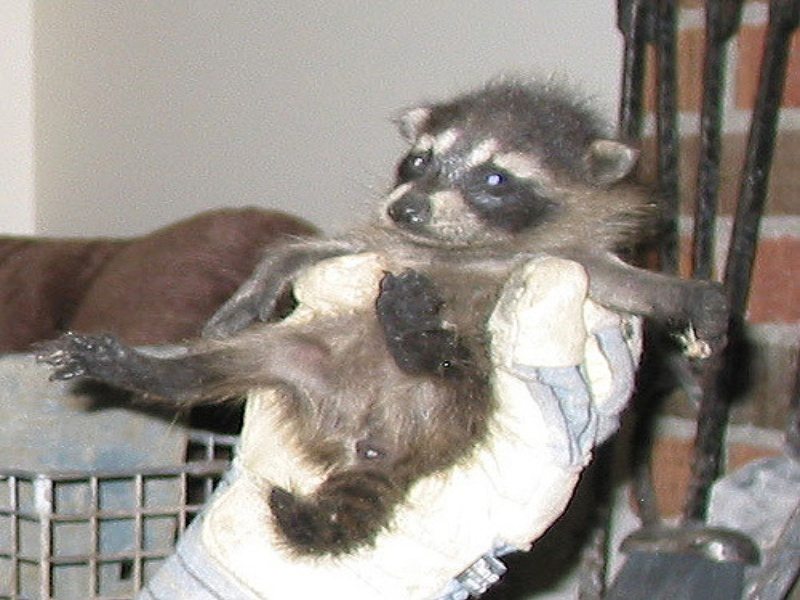raccoon: (31, 74, 741, 554)
